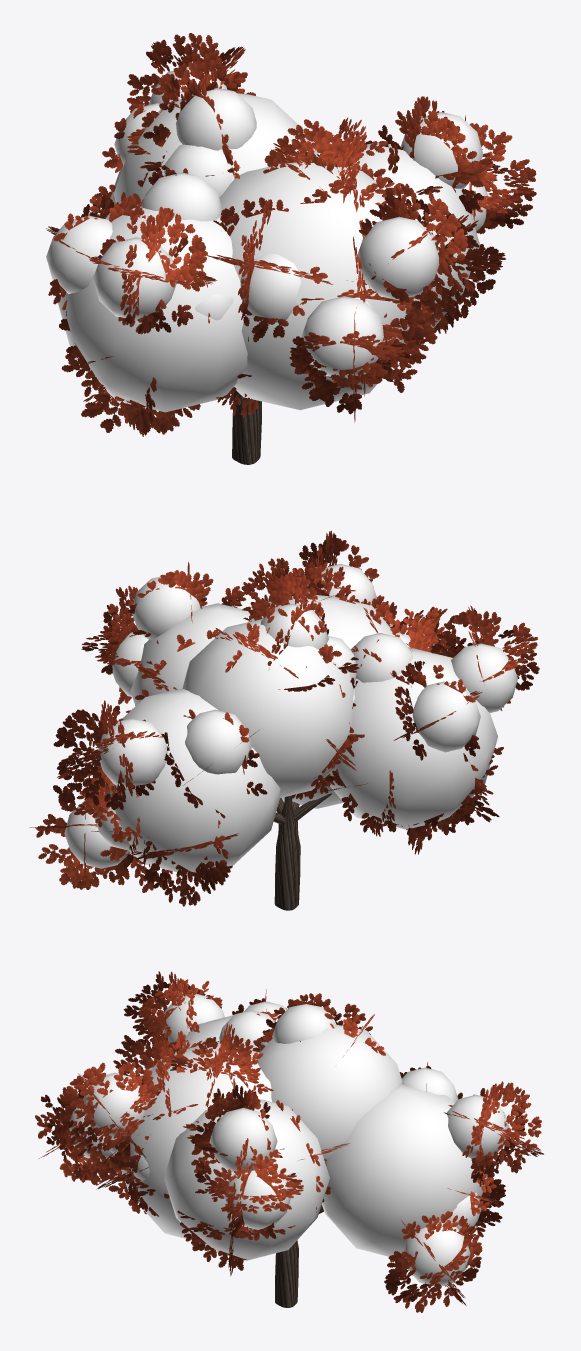
The model's file is bush_autumn.gltf.
3 renders of one model, top to bottom at view 1: azimuth 30°, elevation 25°; view 2: azimuth 150°, elevation 25°; view 3: azimuth 270°, elevation 25°, orthographic. The views are drawn at different scales.
Visible parts, largest first — view 1: bush_autumn_shadow_LOD0, bush_autumn_leaves_LOD0, bush_autumn_trunk_LOD0; view 2: bush_autumn_shadow_LOD0, bush_autumn_leaves_LOD0, bush_autumn_trunk_LOD0; view 3: bush_autumn_shadow_LOD0, bush_autumn_leaves_LOD0, bush_autumn_trunk_LOD0.
Boxes of the visible parts, x1,y1,x2,y2 form: bush_autumn_shadow_LOD0: (46,67,488,412); bush_autumn_leaves_LOD0: (46,33,536,436); bush_autumn_trunk_LOD0: (232,391,261,464); bush_autumn_shadow_LOD0: (64,564,517,874); bush_autumn_leaves_LOD0: (29,530,539,906); bush_autumn_trunk_LOD0: (273,793,331,910); bush_autumn_shadow_LOD0: (69,993,509,1286); bush_autumn_leaves_LOD0: (35,971,543,1312); bush_autumn_trunk_LOD0: (275,1205,323,1307).
Size of what is drawn, in the model's own units: 2.41 by 1.77 by 2.76.
3 materials, 2 textured.
